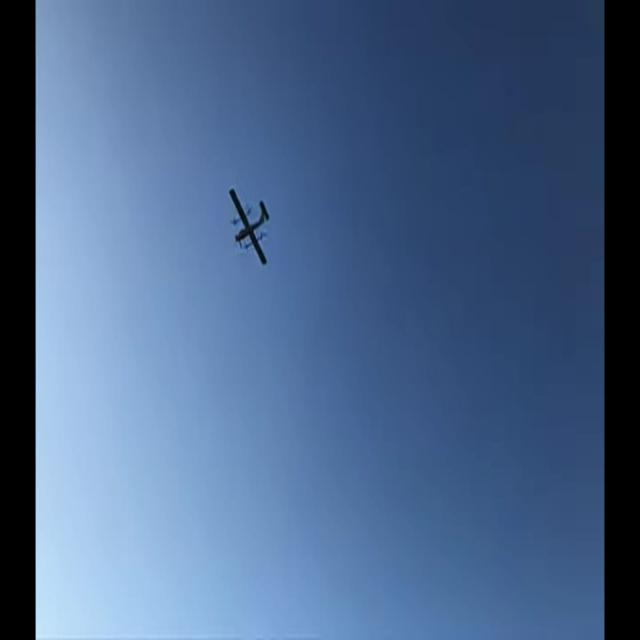iha: (228, 218, 269, 236)
